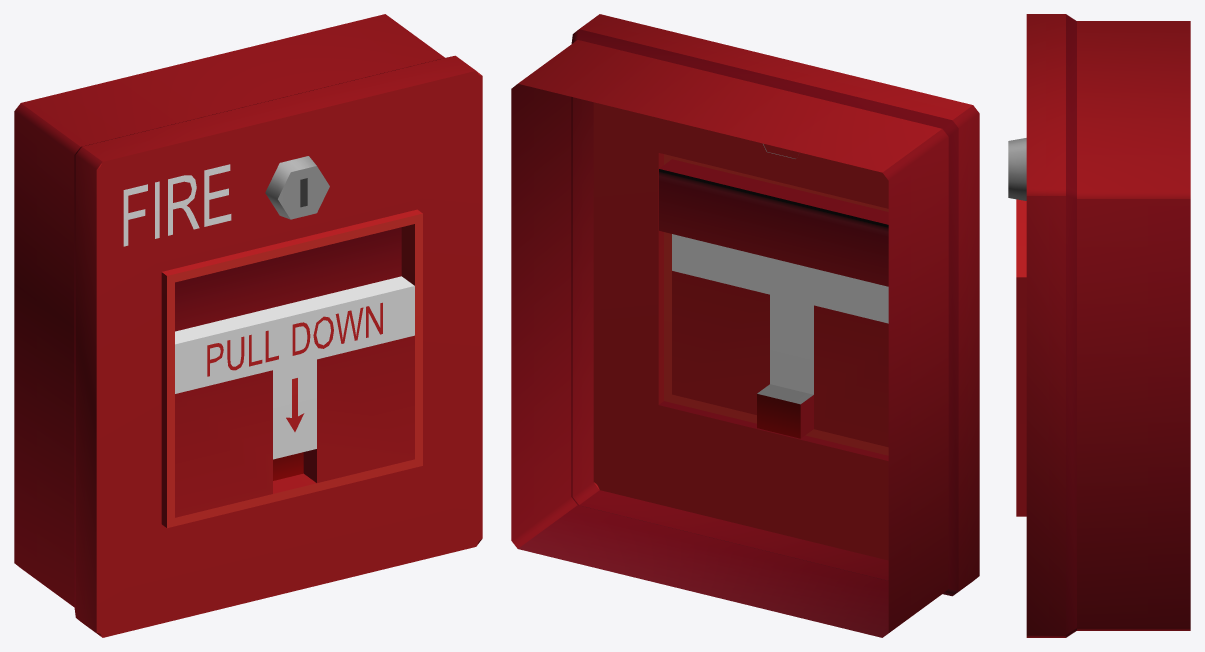
The model's file is CR_Hydrantbox_001.FBX.
3 renders of one model, left to right at view 1: azimuth 30°, elevation 25°; view 2: azimuth 150°, elevation 25°; view 3: azimuth 270°, elevation 25°, orthographic. The views are drawn at different scales.
Visible parts, largest first — view 1: CR_Hydrantbox_001; view 2: CR_Hydrantbox_001; view 3: CR_Hydrantbox_001.
Part boxes in pixels (x1=…): CR_Hydrantbox_001: x1=14, y1=14, x2=482, y2=637; CR_Hydrantbox_001: x1=511, y1=14, x2=979, y2=637; CR_Hydrantbox_001: x1=1008, y1=14, x2=1190, y2=637.
Size of the model in its own units: 30.83 by 36.34 by 13.28.
Materials: 1 (1 with a texture image).
